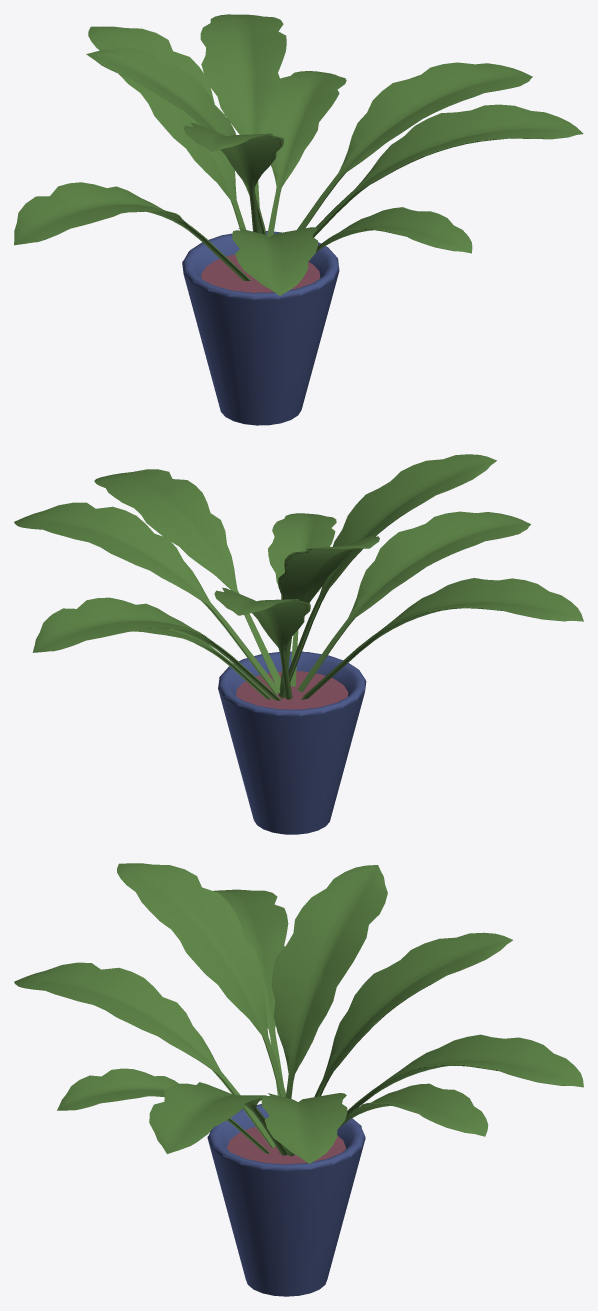
File: bigPlant.fbx
The picture shows the model from 3 angles, top to bottom: view 1: azimuth 30°, elevation 25°; view 2: azimuth 150°, elevation 25°; view 3: azimuth 270°, elevation 25°; orthographic projection. The views are drawn at different scales.
Visible parts, largest first — view 1: bigplant; view 2: bigplant; view 3: bigplant.
Boxes of the visible parts, x1=… form: bigplant: x1=14, y1=14, x2=583, y2=425; bigplant: x1=14, y1=454, x2=583, y2=834; bigplant: x1=14, y1=863, x2=583, y2=1296.
Bounding box in the file's own units: 2.67 × 1.6 × 2.35.
